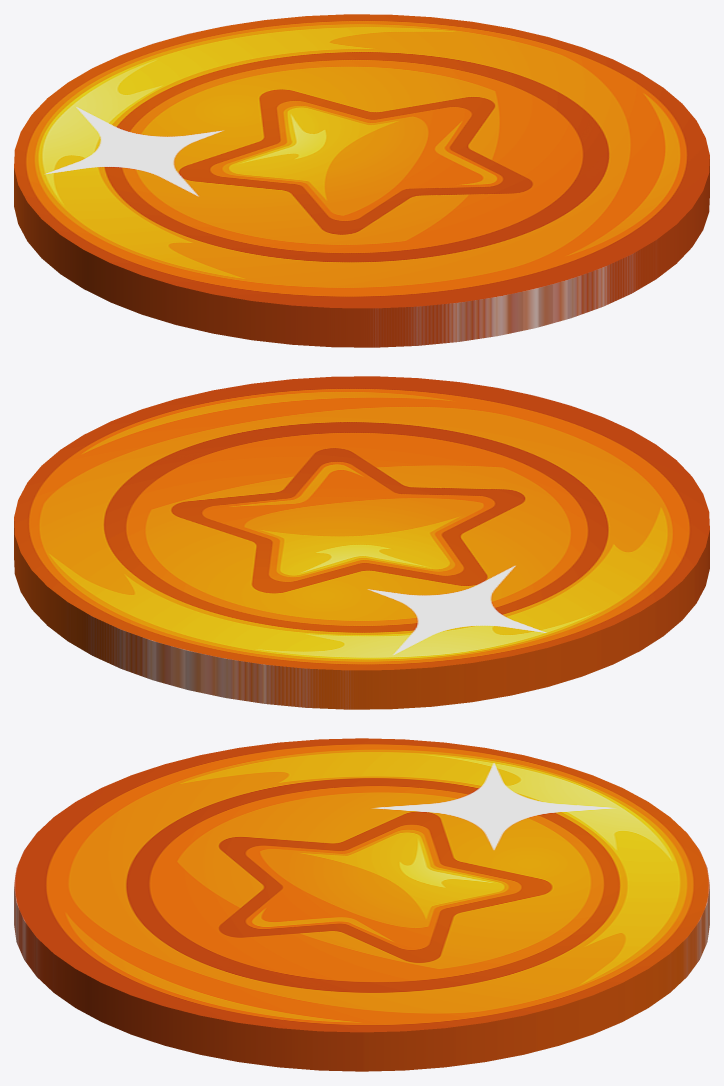
The model's file is game_coin.fbx.
The picture shows the model from 3 angles, top to bottom: view 1: azimuth 30°, elevation 25°; view 2: azimuth 150°, elevation 25°; view 3: azimuth 270°, elevation 25°; orthographic projection.
Parts seen in each view (by area): view 1: Cylinder001; view 2: Cylinder001; view 3: Cylinder001.
Part boxes in pixels (bbox=[...]): Cylinder001: bbox=[14, 14, 709, 347]; Cylinder001: bbox=[14, 376, 709, 709]; Cylinder001: bbox=[14, 738, 709, 1071].
Size of the model in its own units: 16.17 by 1.01 by 16.17.
1 material, 1 textured.
